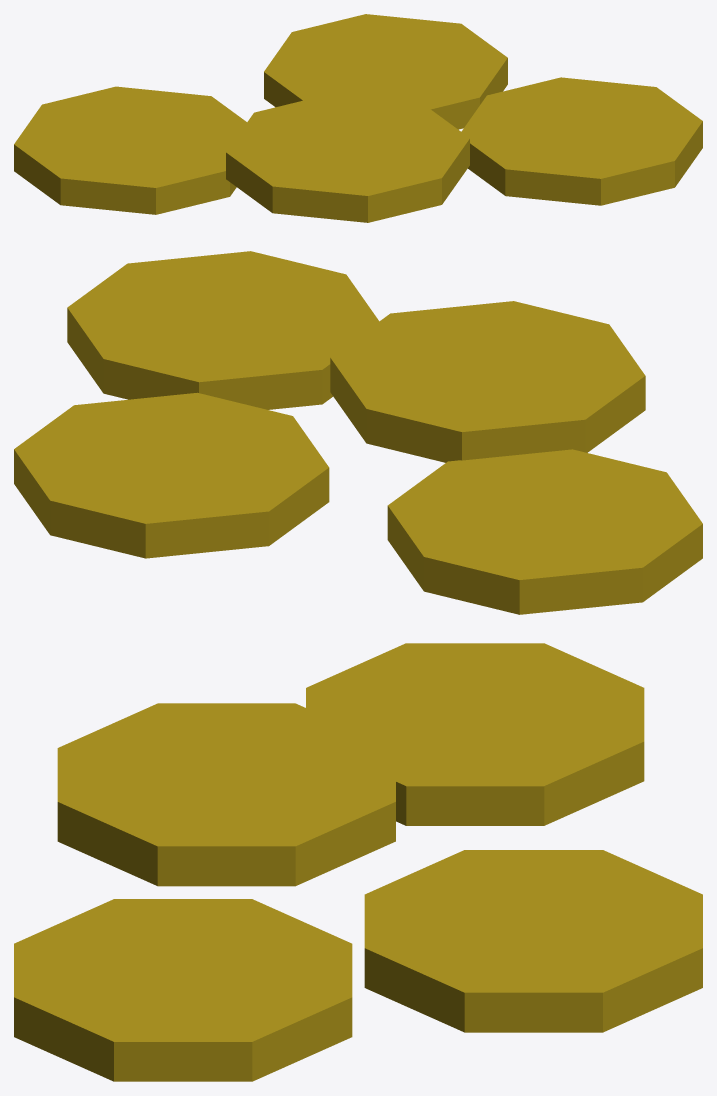
Rendered from Coin4.glb.
The picture shows the model from 3 angles, top to bottom: view 1: azimuth 30°, elevation 25°; view 2: azimuth 150°, elevation 25°; view 3: azimuth 270°, elevation 25°; orthographic projection. The views are drawn at different scales.
Parts seen in each view (by area): view 1: Cube.001; view 2: Cube.001; view 3: Cube.001.
Boxes of the visible parts, bbox=[...] form: Cube.001: bbox=[14, 14, 702, 222]; Cube.001: bbox=[14, 251, 702, 614]; Cube.001: bbox=[14, 643, 702, 1081].
Bounding box in the file's own units: 0.2798 × 0.0278 × 0.2069.
